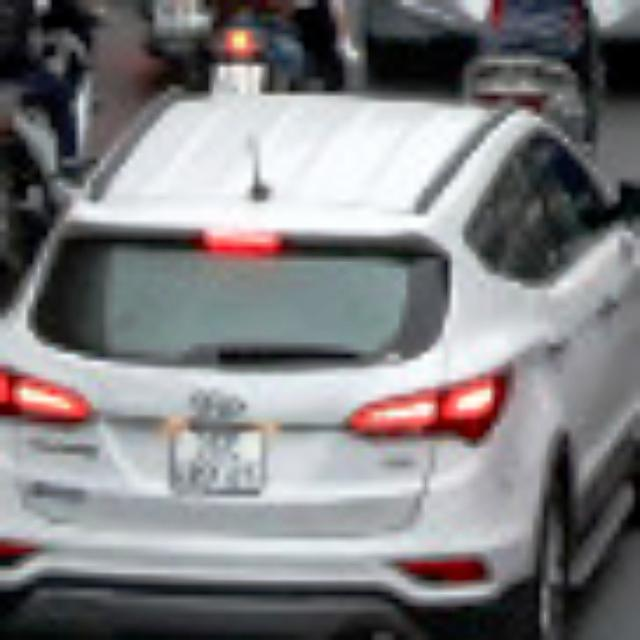Car: (0, 70, 639, 639)
